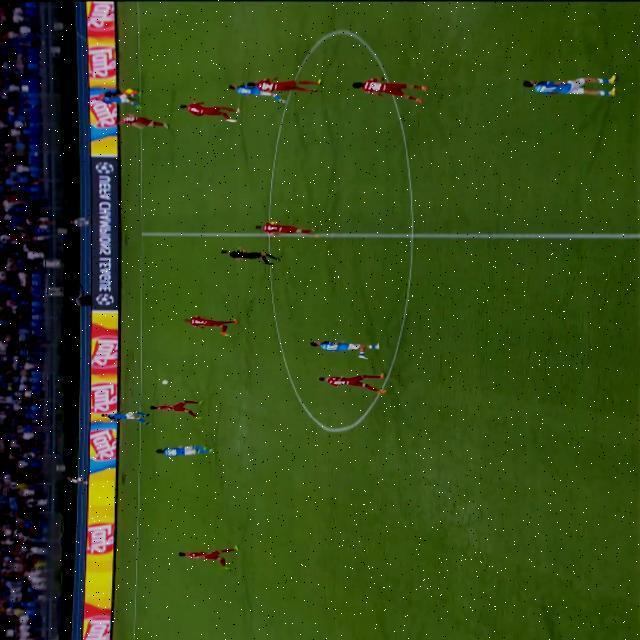ball: (160, 377, 171, 385)
player: (518, 74, 618, 96), (346, 76, 426, 102), (309, 372, 393, 396), (311, 335, 383, 358), (247, 78, 321, 100), (176, 545, 242, 568), (110, 110, 170, 134), (180, 99, 245, 121), (184, 315, 242, 339), (229, 82, 292, 103), (251, 220, 314, 239), (155, 442, 218, 458), (150, 399, 207, 415), (102, 408, 150, 424), (97, 92, 141, 107)
referee: (220, 246, 286, 269)
